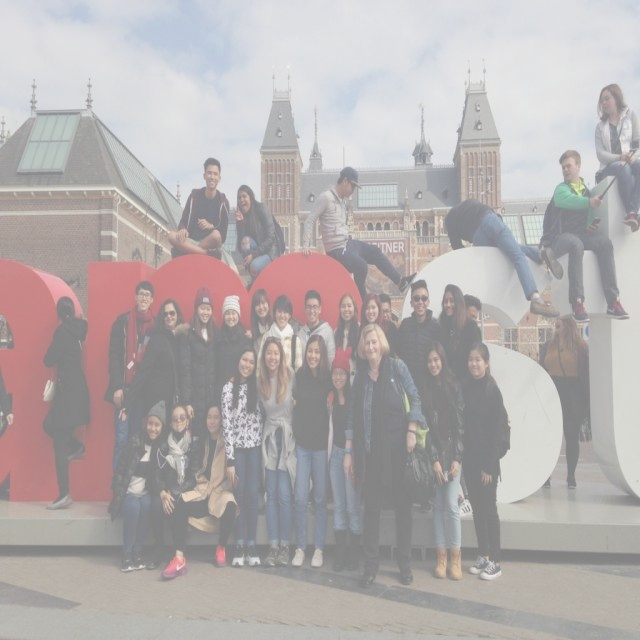pessoa: (342, 320, 427, 588), (540, 147, 632, 326), (437, 197, 567, 321), (301, 164, 418, 298), (160, 401, 238, 580), (285, 332, 341, 566), (460, 339, 512, 583), (216, 344, 272, 569), (102, 280, 159, 498), (39, 293, 94, 512), (418, 341, 468, 581), (534, 309, 594, 493), (254, 336, 298, 568), (112, 400, 167, 572), (326, 344, 364, 572), (146, 401, 194, 571), (590, 79, 640, 235), (393, 279, 442, 426), (166, 156, 230, 262), (179, 286, 222, 440), (232, 182, 288, 291), (433, 282, 484, 382), (214, 293, 254, 402), (255, 292, 304, 378), (154, 298, 192, 404), (355, 292, 404, 370), (294, 288, 337, 372), (332, 292, 363, 388), (248, 286, 274, 358), (374, 290, 404, 330), (462, 292, 483, 320)
